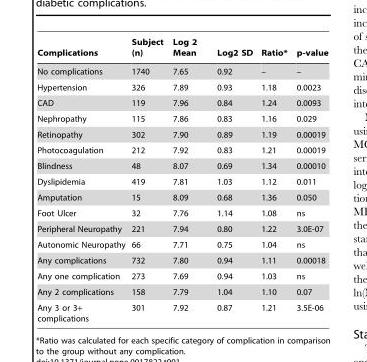table: (36, 37, 327, 322)
table column: (36, 37, 127, 322), (206, 37, 256, 322), (127, 37, 167, 322), (167, 37, 206, 322), (291, 37, 327, 322), (256, 37, 291, 322)
table column header: (36, 37, 327, 61)
table row: (36, 37, 327, 61), (36, 298, 327, 322), (36, 61, 327, 79), (36, 94, 327, 110), (36, 110, 327, 126), (36, 126, 327, 142), (36, 157, 327, 173), (36, 173, 327, 189), (36, 189, 327, 205), (36, 220, 327, 236), (36, 236, 327, 252), (36, 252, 327, 268), (36, 79, 327, 94), (36, 142, 327, 157), (36, 205, 327, 220), (36, 268, 327, 283), (36, 283, 327, 298)
